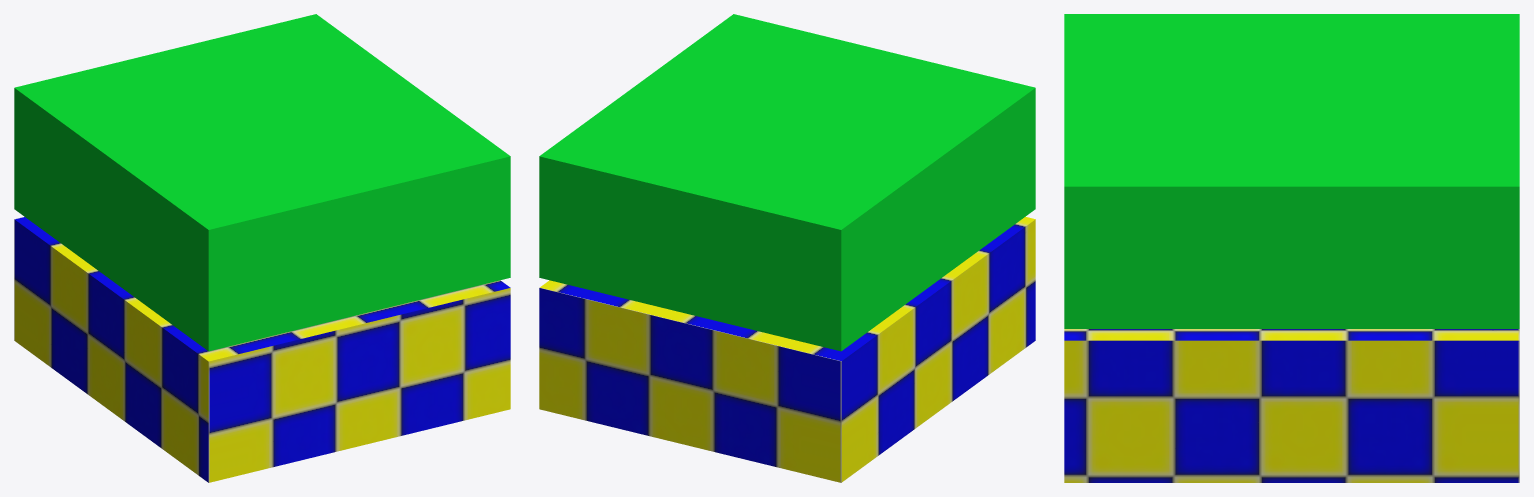
Rendered from test_box_4_bld.glb.
3 views of the same model, side by side, from view 1: azimuth 30°, elevation 25°; view 2: azimuth 150°, elevation 25°; view 3: azimuth 270°, elevation 25° (orthographic). The views are drawn at different scales.
Parts seen in each view (by area): view 1: Box001, Box002; view 2: Box001, Box002; view 3: Box001, Box002.
Boxes of the visible parts, <box> form: Box001: <box>14,14,510,351</box>; Box002: <box>14,216,510,482</box>; Box001: <box>539,14,1035,351</box>; Box002: <box>539,216,1035,482</box>; Box001: <box>1064,14,1519,328</box>; Box002: <box>1064,329,1519,482</box>.
Bounding box in the file's own units: 0.2863 × 0.2291 × 0.3192.
2 materials, 1 textured.
